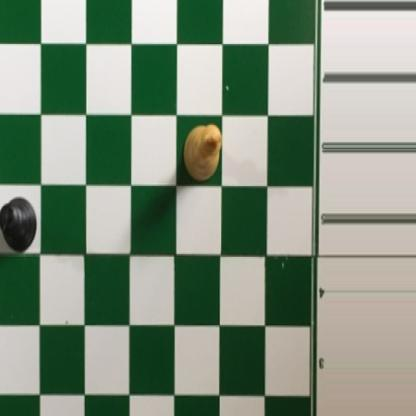black-king: (0, 192, 38, 253)
white-king: (182, 121, 222, 183)
